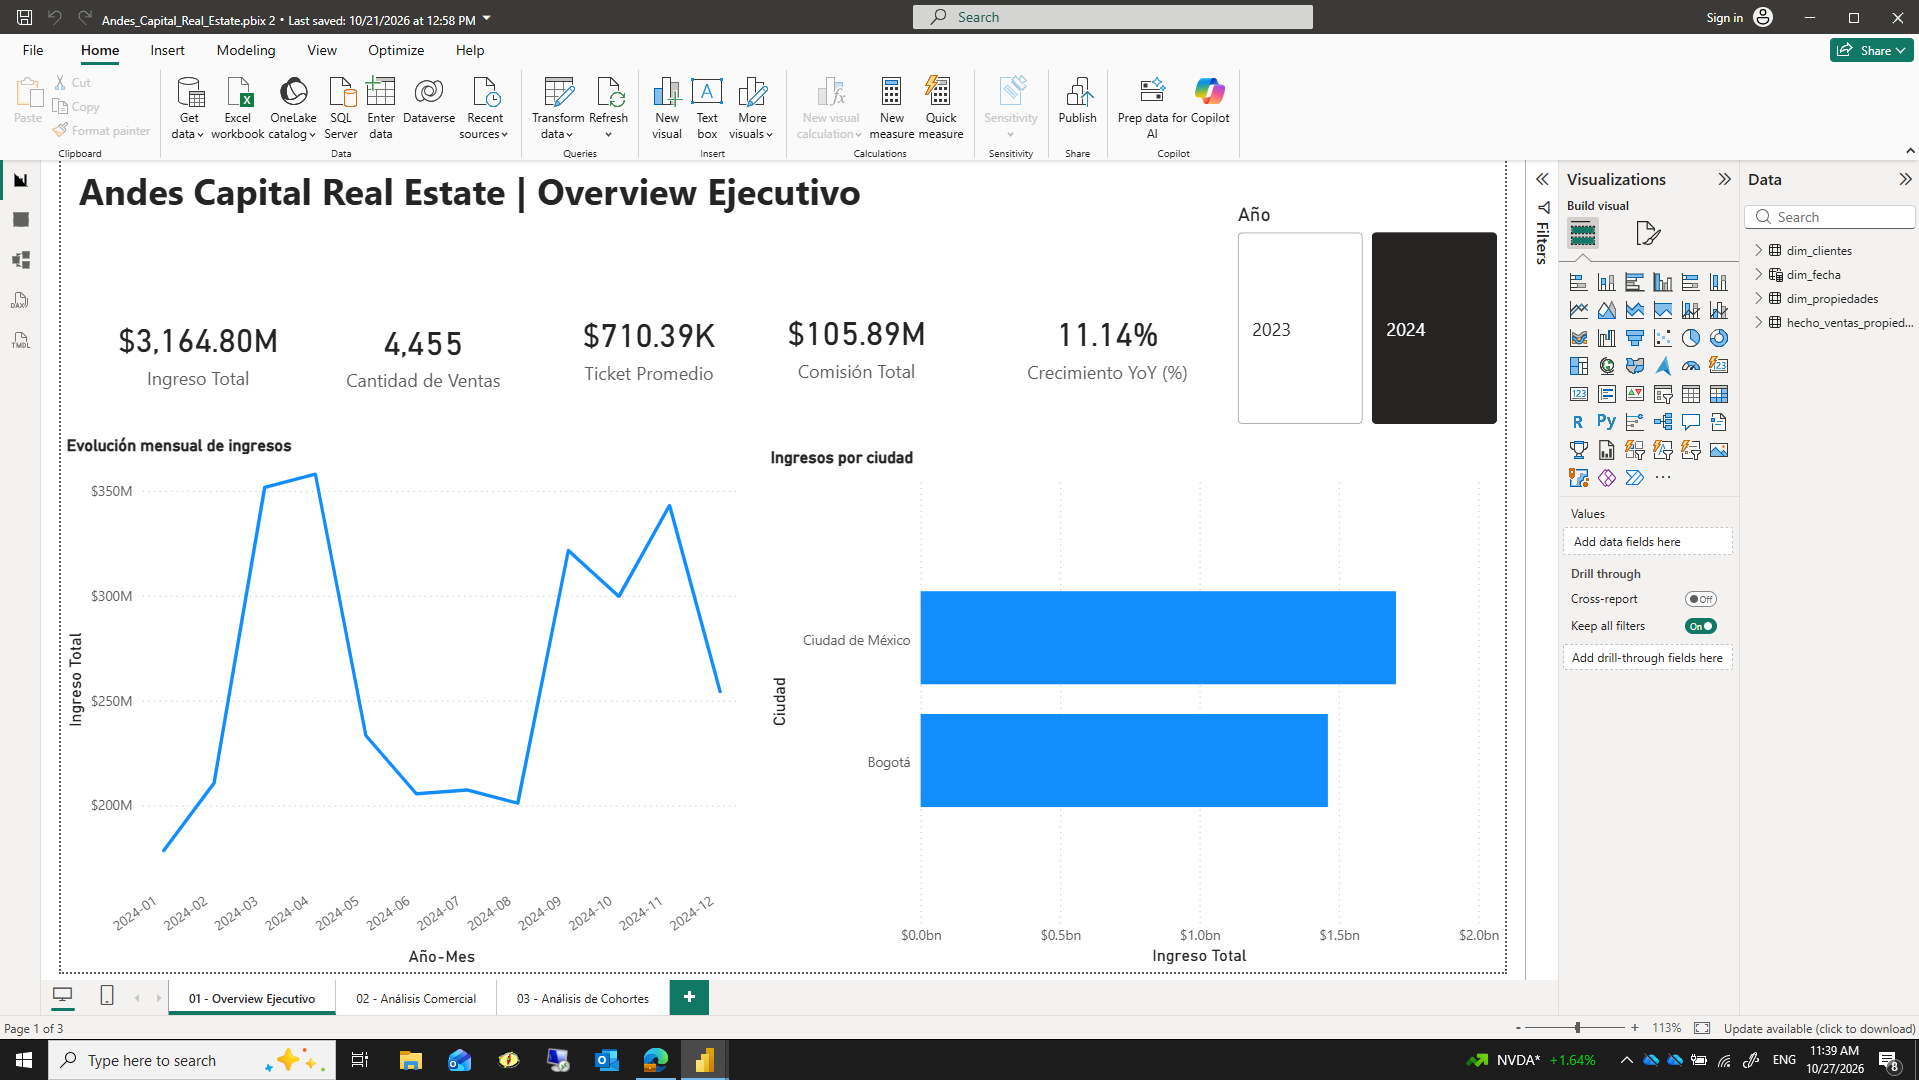

The page's visual inventory and layout, read from the dashboard file:
{"tool":"powerbi","page":{"name":"01 - Overview Ejecutivo","canvas":[1280,720],"ordinal":0},"visuals":[{"type":"card","fields":{"Values":["hecho_ventas_propiedades.Ingreso Total"]},"box":[0,81.8,243.3,174.1],"z":0},{"type":"card","fields":{"Values":["hecho_ventas_propiedades.Cantidad de Ventas"]},"box":[209.7,102.8,222.3,136.3],"z":1000},{"type":"card","fields":{"Values":["hecho_ventas_propiedades.Ticket Promedio"]},"box":[417.3,88.1,207.6,153.1],"z":2000},{"type":"card","fields":{"Values":["hecho_ventas_propiedades.Comisión Total"]},"box":[593.5,79.7,224.4,165.7],"z":3000},{"type":"lineChart","title":"Evolución mensual de ingresos","fields":{"Category":["dim_fecha.Año-Mes"],"Y":["hecho_ventas_propiedades.Ingreso Total"]},"box":[0,244.4,607.4,474.1],"z":4000},{"type":"clusteredBarChart","title":"Ingresos por ciudad","fields":{"Category":["hecho_ventas_propiedades.ciudad"],"Y":["hecho_ventas_propiedades.Ingreso Total"]},"box":[624.1,255.6,655.6,463],"z":5000},{"type":"card","fields":{"Values":["hecho_ventas_propiedades.Crecimiento YoY (%)"]},"box":[799,88.1,258,151],"z":6000},{"type":"textbox","box":[10.5,0,757.1,73.4],"z":7000},{"type":"advancedSlicerVisual","fields":{"Values":["dim_fecha.Año"]},"box":[1038.1,37.8,241.2,201.3],"z":8000}]}

Visuals, with their boxes on the page's 1280x720 design canvas (x1, y1, x2, y2). These are canvas units, not pixel positions in the 1919x1080 screenshot, which may show the page scaled, cropped or inside an application window:
card - hecho_ventas_propiedades.Ingreso Total: [0, 82, 243, 256]
card - hecho_ventas_propiedades.Cantidad de Ventas: [210, 103, 432, 239]
card - hecho_ventas_propiedades.Ticket Promedio: [417, 88, 625, 241]
card - hecho_ventas_propiedades.Comisión Total: [594, 80, 818, 245]
"Evolución mensual de ingresos" lineChart: [0, 244, 607, 718]
"Ingresos por ciudad" clusteredBarChart: [624, 256, 1280, 719]
card - hecho_ventas_propiedades.Crecimiento YoY (%): [799, 88, 1057, 239]
textbox: [10, 0, 768, 73]
advancedSlicerVisual - dim_fecha.Año: [1038, 38, 1279, 239]
